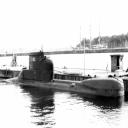submarine: (4, 52, 126, 98)
